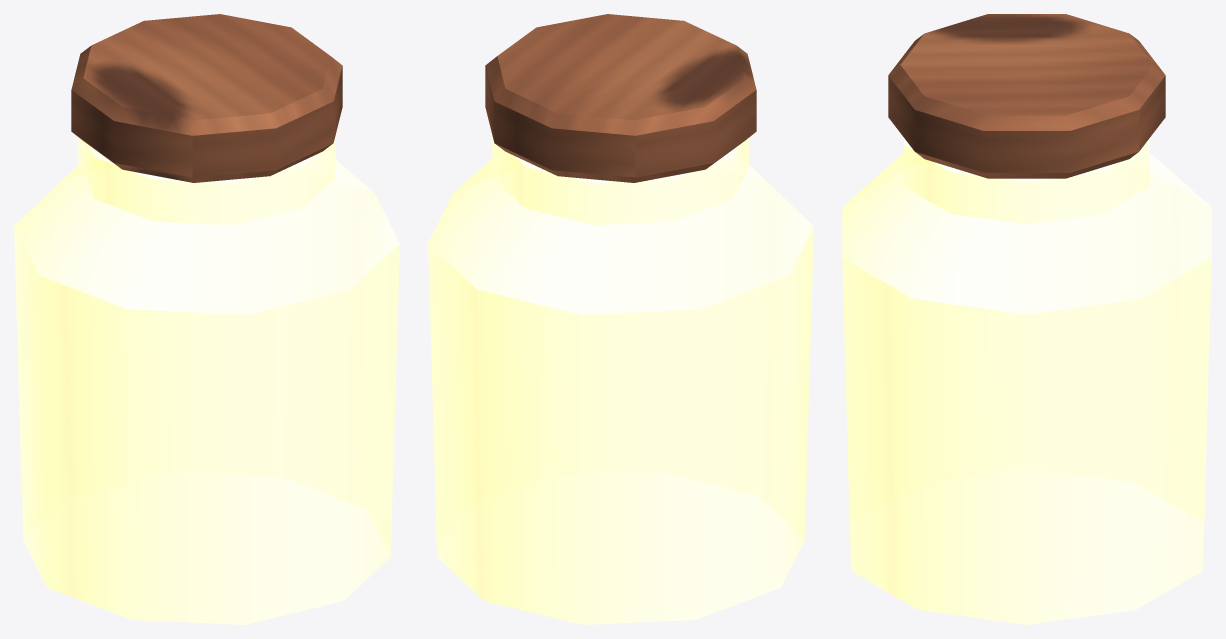
File: jar_glow.gltf
3 renders of one model, left to right at view 1: azimuth 30°, elevation 25°; view 2: azimuth 150°, elevation 25°; view 3: azimuth 270°, elevation 25°, orthographic.
Parts seen in each view (by area): view 1: jar_glow_mesh; view 2: jar_glow_mesh; view 3: jar_glow_mesh.
Boxes of the visible parts, x1,y1,x2,y2 form: jar_glow_mesh: [14, 14, 399, 624]; jar_glow_mesh: [428, 14, 813, 624]; jar_glow_mesh: [842, 14, 1211, 624].
Size of the model in its own units: 0.168 by 0.23 by 0.1598.
Materials: 2 (1 with a texture image).
